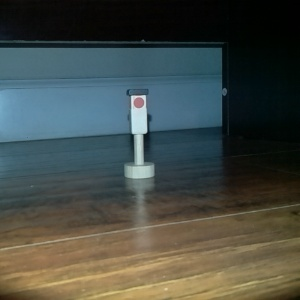traffic light red: (121, 85, 157, 180)
